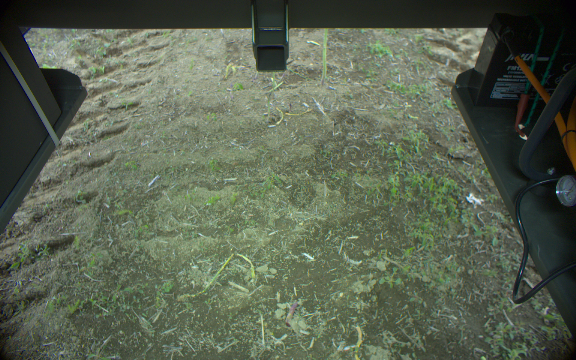aspa: (319, 27, 331, 84), (283, 299, 298, 329)
